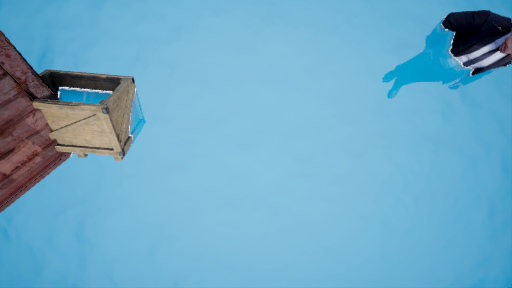person: (384, 8, 512, 103)
